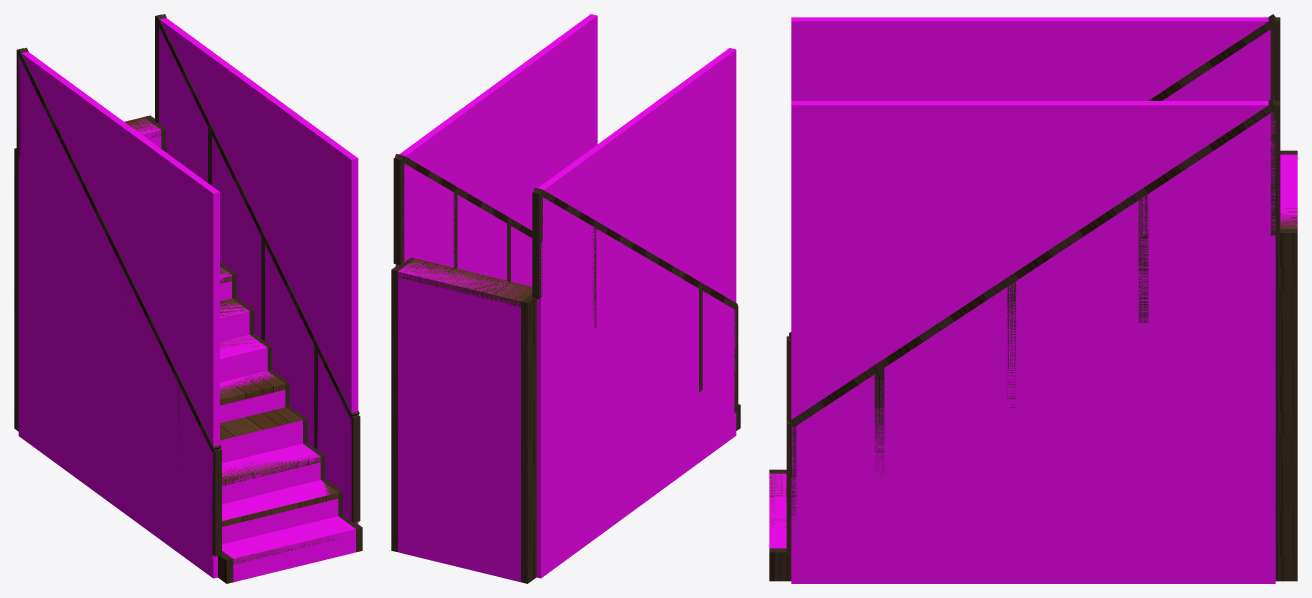
File: tangga.glb
The picture shows the model from 3 angles, left to right: view 1: azimuth 30°, elevation 25°; view 2: azimuth 150°, elevation 25°; view 3: azimuth 270°, elevation 25°; orthographic projection. The views are drawn at different scales.
Visible parts, largest first — view 1: col_rail_l, col_rail_r, tangga_kayu, tangga_treads, col_step_12, col_step_11, col_step_10, col_step_9, col_step_7, col_step_8, col_step_6, col_step_1; view 2: col_rail_l, col_step_1, col_rail_r, tangga_kayu, tangga_treads; view 3: col_rail_r, col_rail_l, tangga_kayu, col_step_12, col_step_1.
Boxes of the visible parts, x1,y1,x2,y2 form: col_rail_l: (18, 51, 219, 578); col_rail_r: (158, 18, 358, 523); tangga_kayu: (14, 14, 362, 583); tangga_treads: (125, 117, 338, 564); col_step_12: (222, 516, 355, 582); col_step_11: (222, 480, 338, 544); col_step_10: (222, 443, 320, 503); col_step_9: (220, 420, 302, 463); col_step_7: (220, 334, 267, 382); col_step_8: (220, 371, 285, 422); col_step_6: (220, 301, 249, 341); col_step_1: (125, 118, 161, 148); col_rail_l: (536, 48, 736, 578); col_step_1: (398, 260, 531, 582); col_rail_r: (395, 14, 597, 286); tangga_kayu: (391, 154, 740, 583); tangga_treads: (398, 258, 532, 306); col_rail_r: (791, 101, 1275, 583); col_rail_l: (791, 17, 1270, 100); tangga_kayu: (769, 14, 1297, 581); col_step_12: (769, 473, 786, 548); col_step_1: (1280, 154, 1297, 227).
Bounding box in the file's own units: 1.31 × 3.32 × 3.3.
Materials: 3 (2 with a texture image).
